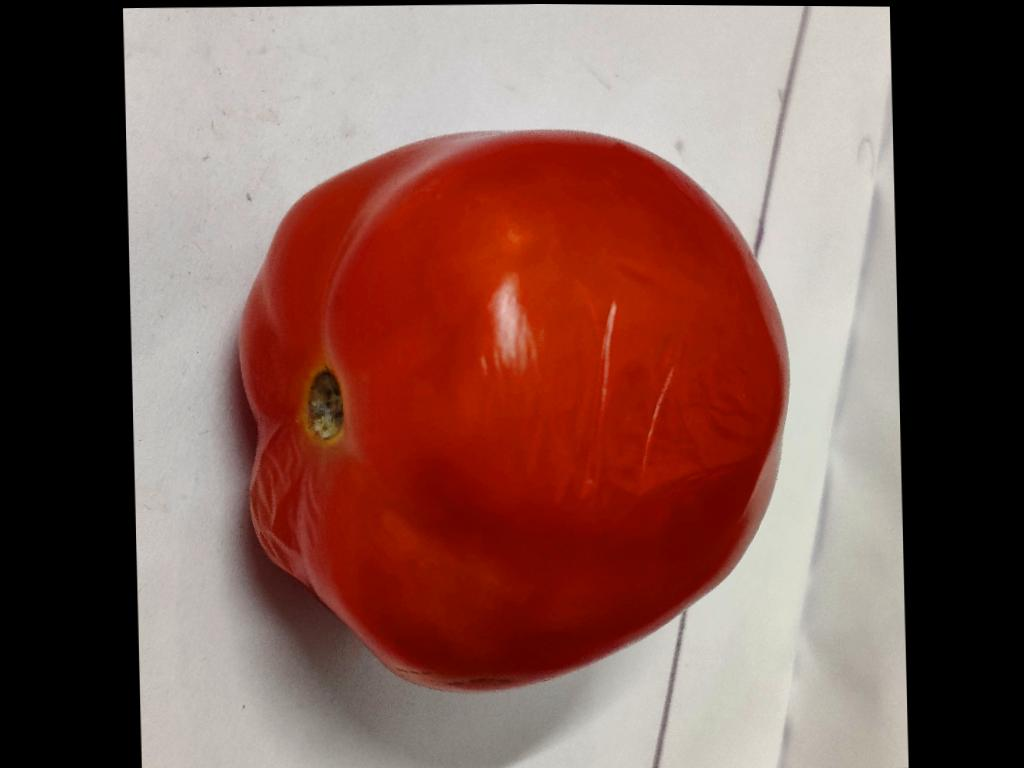bruise_discoloration: (607, 317, 779, 491), (249, 420, 327, 585)
tomato: (238, 130, 786, 691)
